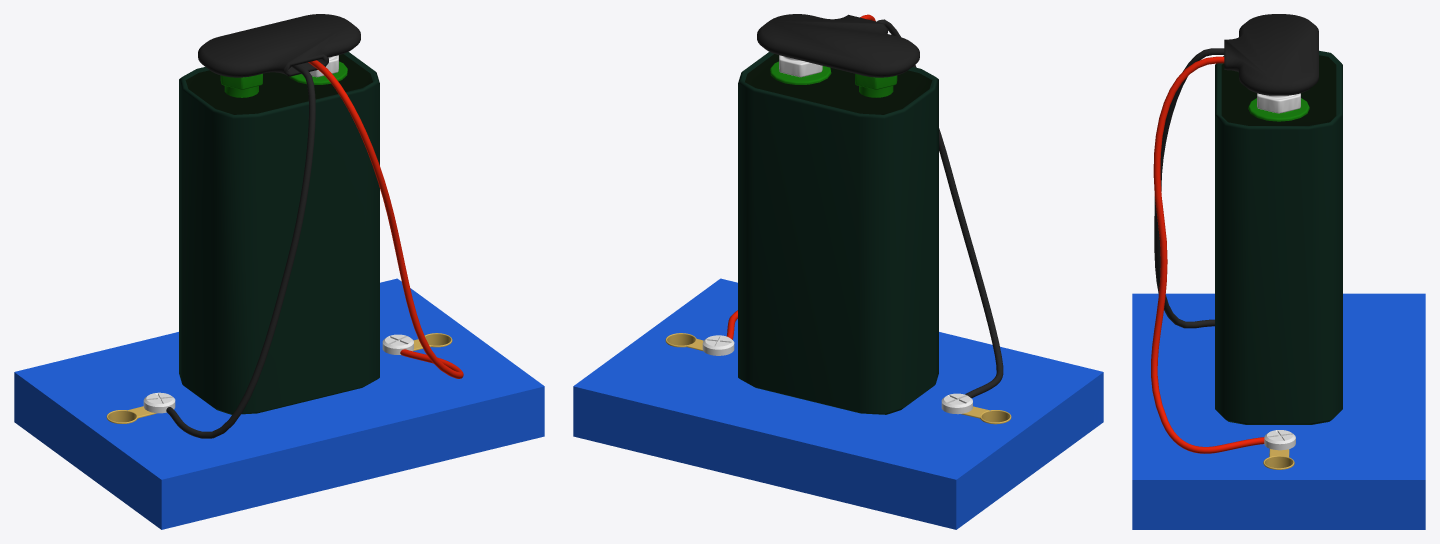
The model's file is battery.fbx.
3 renders of one model, left to right at view 1: azimuth 30°, elevation 25°; view 2: azimuth 150°, elevation 25°; view 3: azimuth 270°, elevation 25°, orthographic.
Parts seen in each view (by area): view 1: battary_low.002, BezierCurve.024, Plane.013, BezierCurve.026, BezierCurve.025; view 2: battary_low.002, BezierCurve.024, Plane.013, BezierCurve.026, BezierCurve.025, battary_high.007; view 3: BezierCurve.024, battary_low.002, Plane.013, BezierCurve.026, BezierCurve.025, battary_high.007.
Boxes of the visible parts, x1,y1,x2,y2 form: battary_low.002: [179, 52, 379, 414]; BezierCurve.024: [14, 278, 544, 529]; Plane.013: [198, 14, 360, 77]; BezierCurve.026: [166, 60, 463, 438]; BezierCurve.025: [106, 333, 452, 423]; battary_low.002: [738, 52, 938, 414]; BezierCurve.024: [573, 278, 1103, 529]; Plane.013: [757, 14, 919, 77]; BezierCurve.026: [726, 14, 1003, 398]; BezierCurve.025: [665, 333, 1011, 424]; battary_high.007: [779, 55, 822, 77]; BezierCurve.024: [1132, 293, 1425, 529]; battary_low.002: [1215, 50, 1342, 424]; Plane.013: [1224, 14, 1318, 95]; BezierCurve.026: [1151, 48, 1264, 453]; BezierCurve.025: [1263, 430, 1295, 469]; battary_high.007: [1257, 93, 1300, 113].
Size of the model in its own units: 6 by 5.83 by 3.99.
